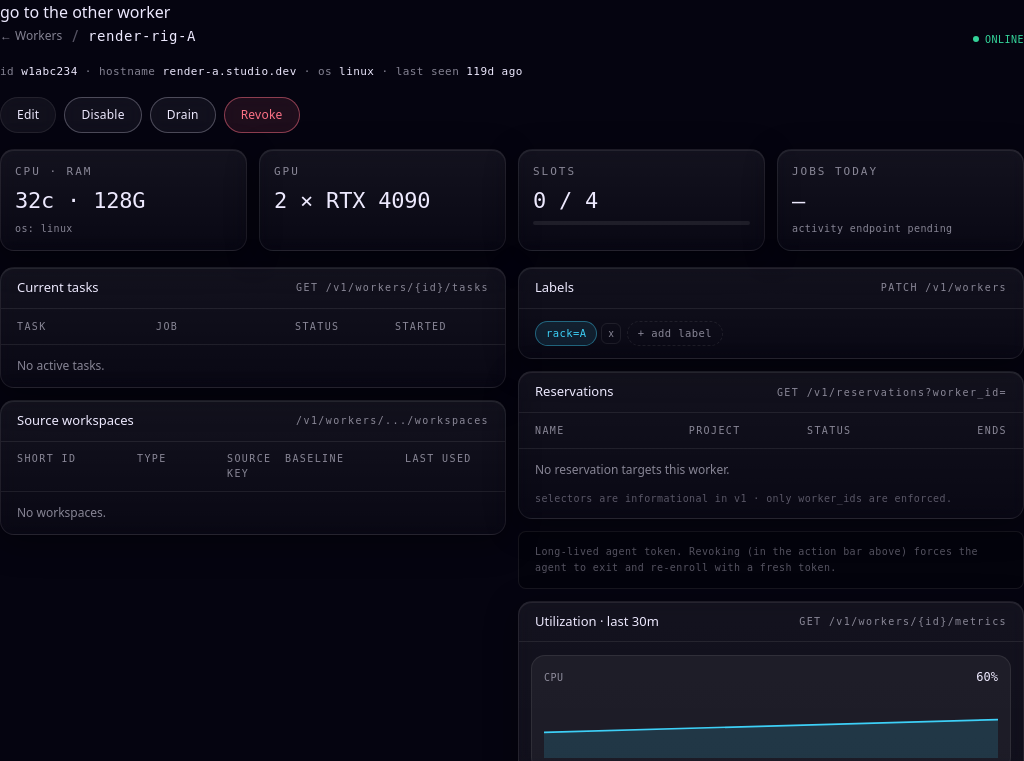
the header Edit pill still opens the name/slots form (not label editing)
Click the button "Edit" at (28, 114), box [0,96,56,132]
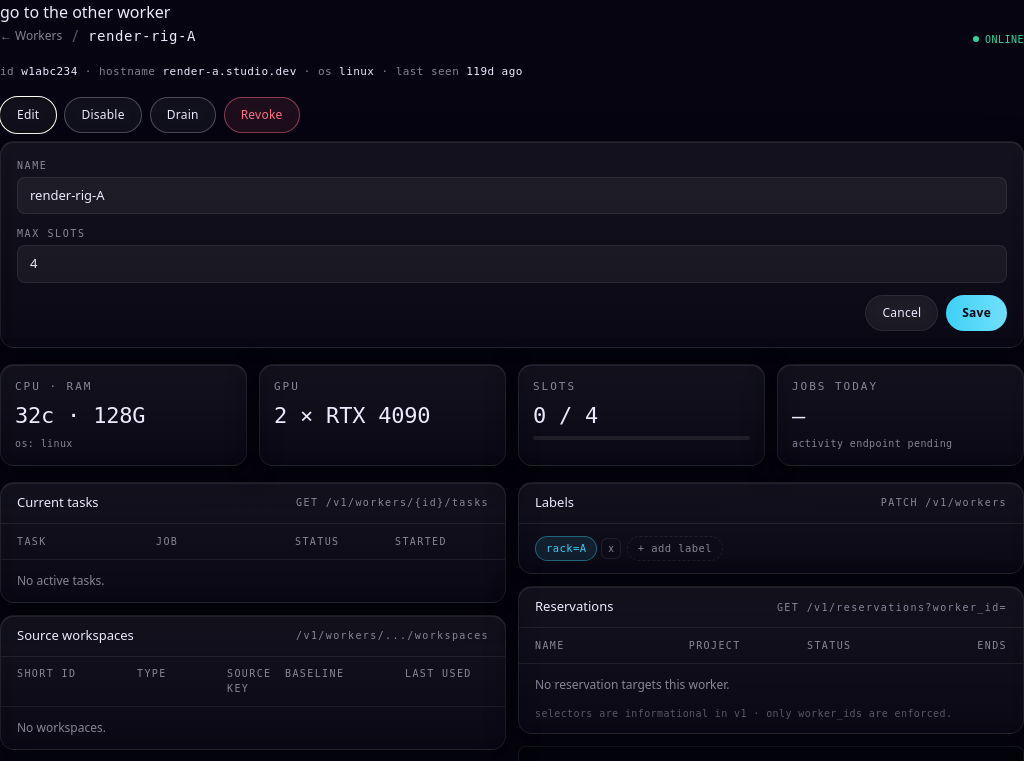
Expected: the field labelled "Name" is shown, [17,176,1007,214]
Expected: the number field labelled "Max slots" is shown, [17,245,1007,282]
